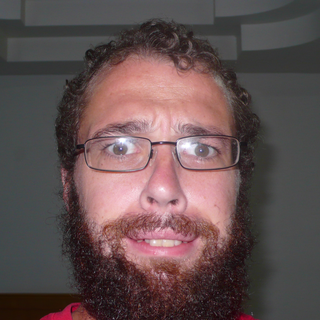eye: (178, 141, 223, 162), (99, 140, 143, 161)
